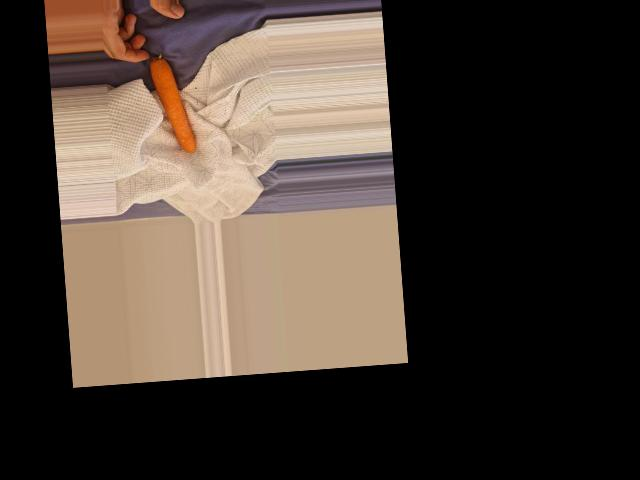carrot: (150, 53, 196, 155)
